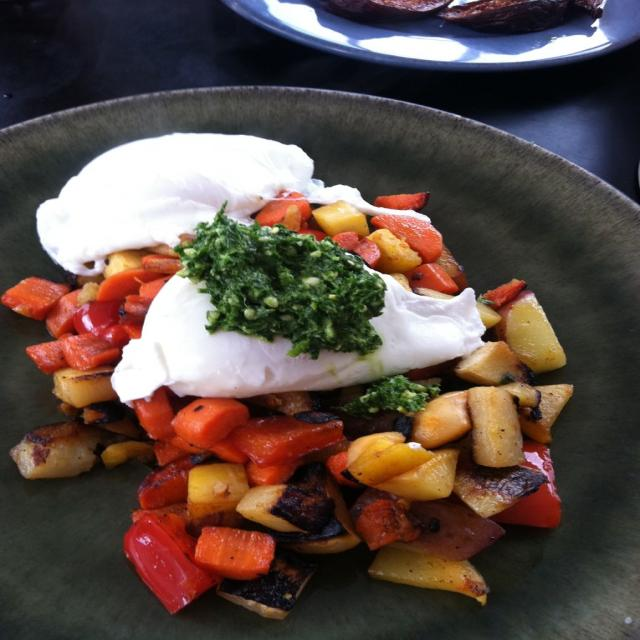carrot: (132, 400, 355, 490), (191, 523, 273, 580), (372, 215, 442, 262), (2, 275, 68, 319), (94, 265, 164, 298), (260, 188, 310, 228), (49, 290, 84, 340), (406, 262, 460, 294), (378, 190, 436, 210), (141, 273, 172, 299), (144, 258, 188, 272)
